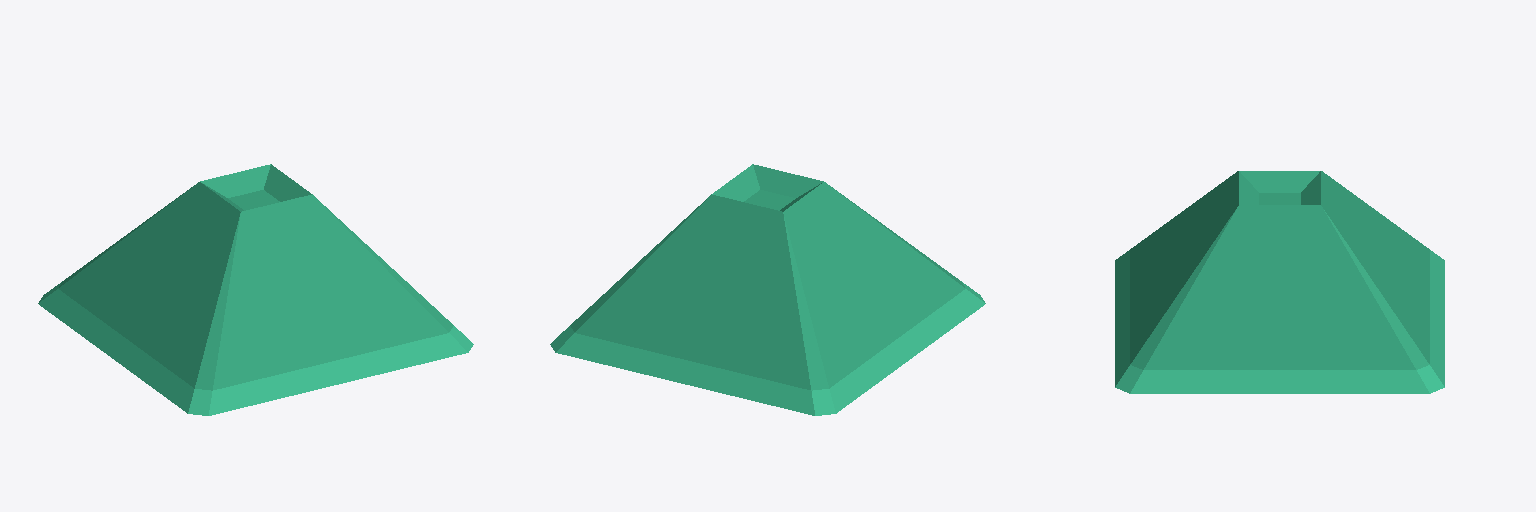
The model's file is roofPoint.obj.
3 views of the same model, side by side, from view 1: azimuth 30°, elevation 25°; view 2: azimuth 150°, elevation 25°; view 3: azimuth 270°, elevation 25° (orthographic).
Parts seen in each view (by area): view 1: roofPoint; view 2: roofPoint; view 3: roofPoint.
Part boxes in pixels (left/top/right/bottom): roofPoint: left=38, top=164, right=473, bottom=415; roofPoint: left=550, top=164, right=985, bottom=415; roofPoint: left=1115, top=171, right=1444, bottom=393.
Size of the model in its own units: 1.1 by 0.5 by 1.1.